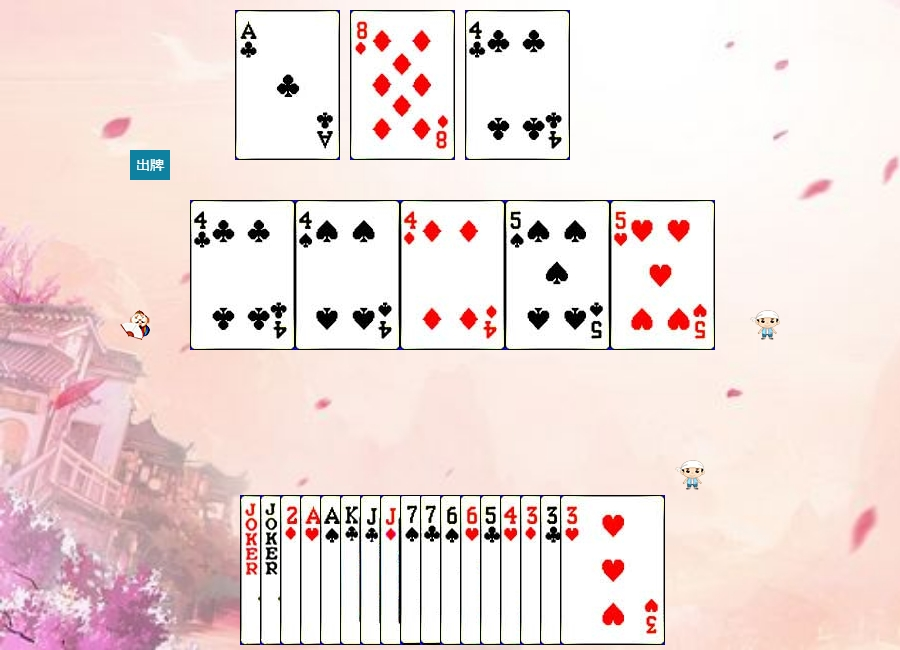11~1: (380, 495, 485, 645)
11~2: (360, 495, 465, 645)
13~2: (340, 495, 445, 645)
14~2: (235, 10, 340, 160)
14~3: (300, 495, 405, 645)
14~4: (320, 495, 425, 645)
15~1: (280, 495, 385, 645)
17~3: (260, 495, 365, 645)
18~4: (240, 495, 345, 645)
3~1: (520, 495, 625, 645)
3~2: (540, 495, 645, 645)
3~3: (560, 495, 665, 645)
4~1: (400, 200, 505, 350)
4~2: (465, 10, 570, 160), (190, 200, 295, 350)
4~3: (500, 495, 605, 645)
4~4: (295, 200, 400, 350)
5~2: (480, 495, 585, 645)
5~3: (610, 200, 715, 350)
5~4: (505, 200, 610, 350)
6~3: (460, 495, 565, 645)
6~4: (440, 495, 545, 645)
7~2: (420, 495, 525, 645)
7~4: (400, 495, 505, 645)
8~1: (350, 10, 455, 160)
